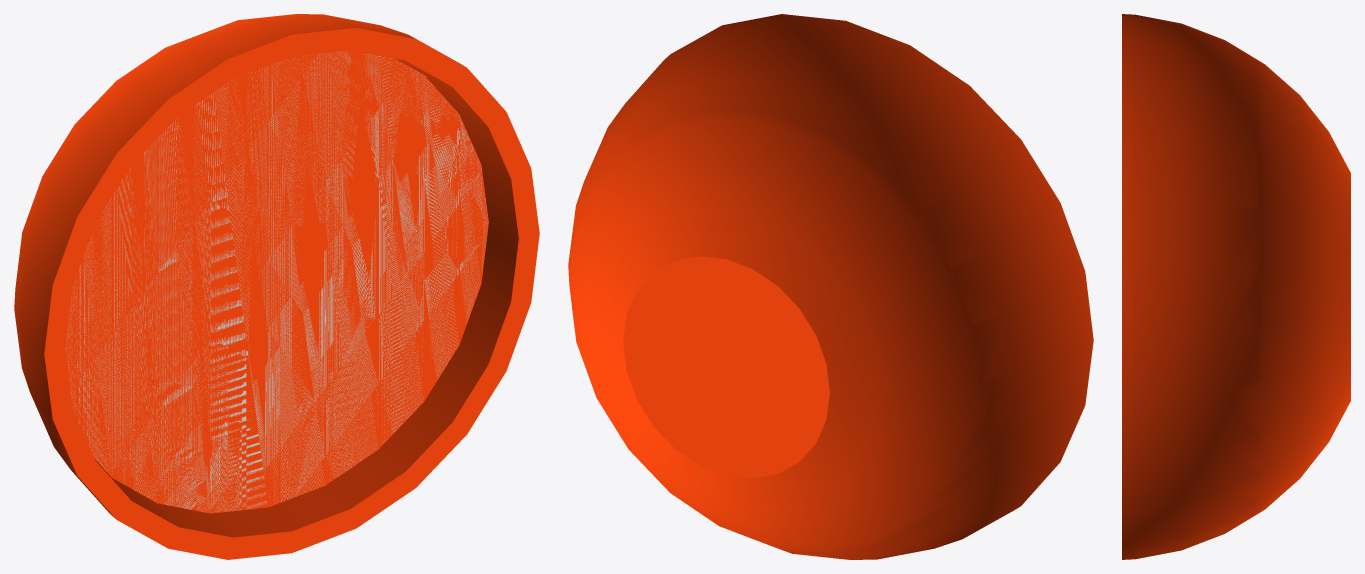
The model's file is model_scale.obj.
3 views of the same model, side by side, from view 1: azimuth 30°, elevation 25°; view 2: azimuth 150°, elevation 25°; view 3: azimuth 270°, elevation 25° (orthographic). The views are drawn at different scales.
Visible parts, largest first — view 1: mesh5_mesh5-geometry, mesh1_mesh1-geometry; view 2: mesh1_mesh1-geometry; view 3: mesh1_mesh1-geometry.
Part boxes in pixels (bbox=[...]): mesh5_mesh5-geometry: bbox=[65, 50, 488, 513]; mesh1_mesh1-geometry: bbox=[14, 14, 539, 559]; mesh1_mesh1-geometry: bbox=[568, 14, 1093, 559]; mesh1_mesh1-geometry: bbox=[1122, 14, 1350, 559].
Bounding box in the file's own units: 0.1656 × 0.1656 × 0.0691.
